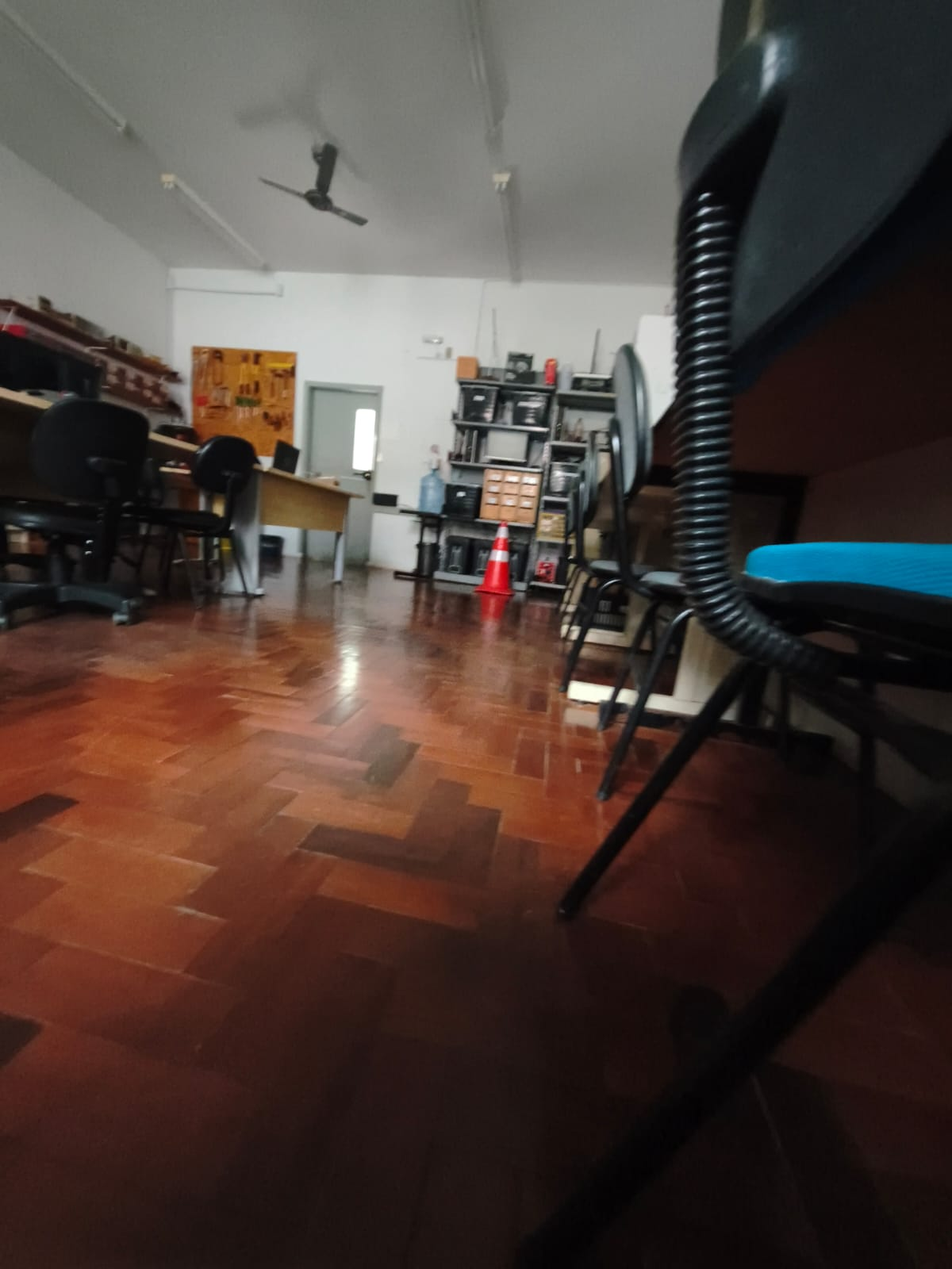cone: (476, 521, 516, 612)
